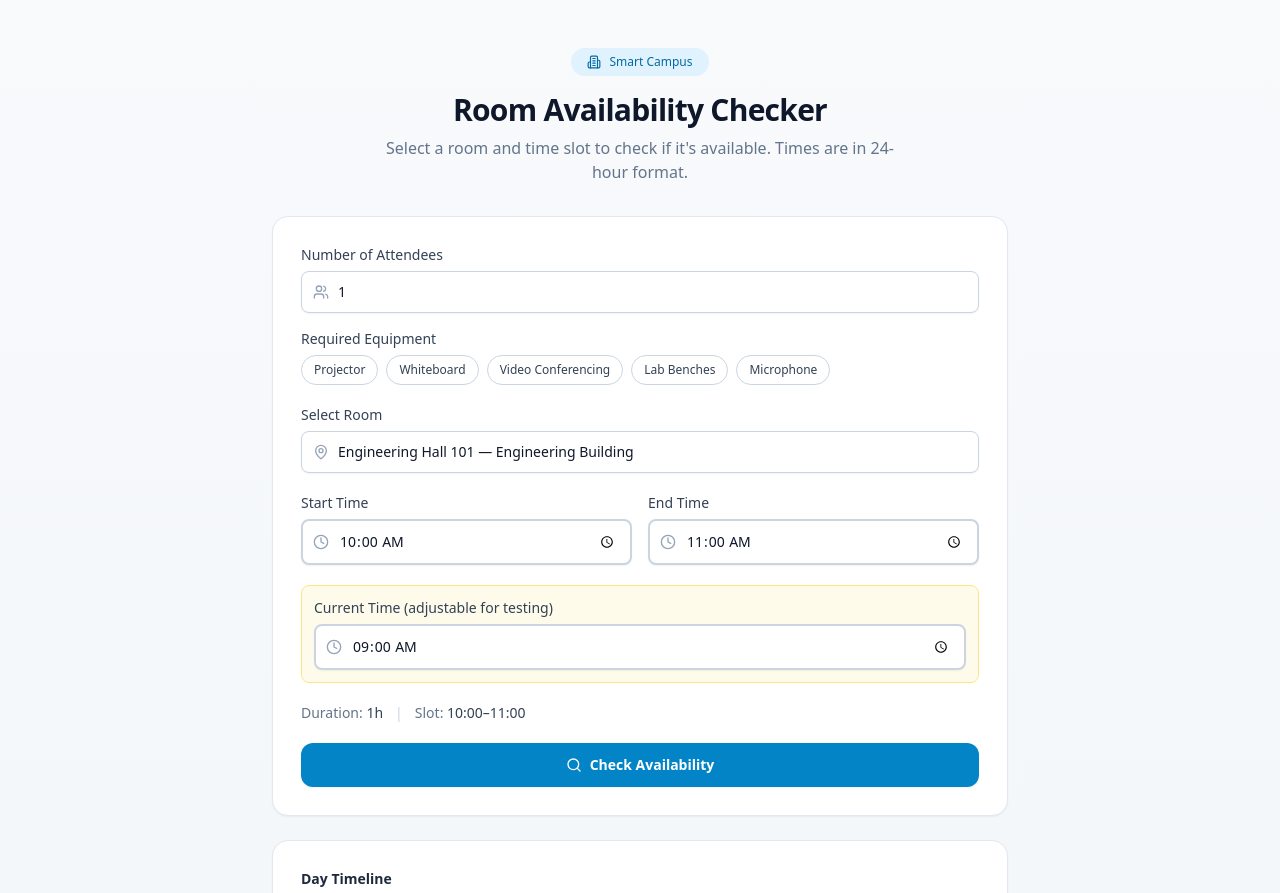
room switching › clears the old result and checks the newly selected room's own bookings
Click the button "Check Availability" at (640, 765), box [301, 743, 979, 787]
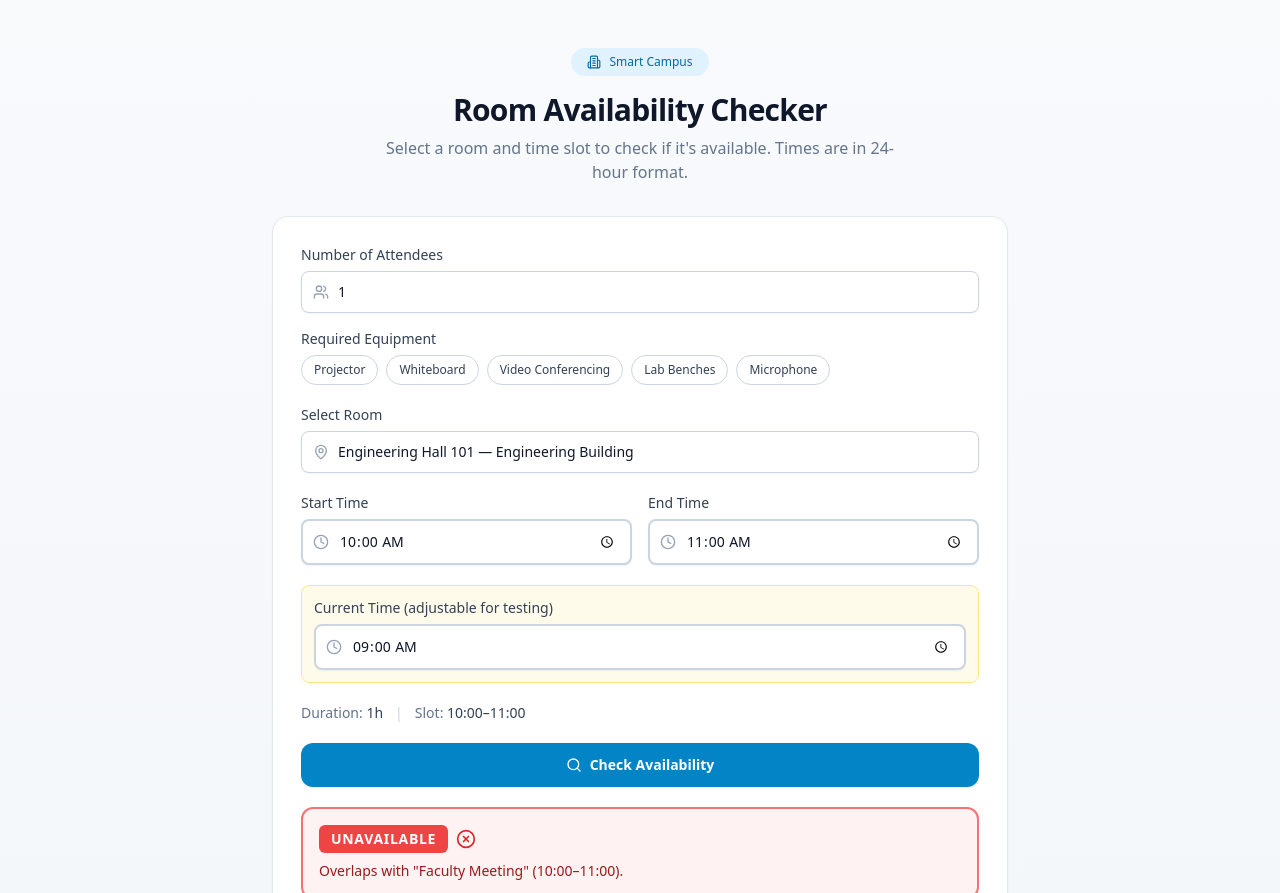
Check: the text "Unavailable" is shown, box [319, 825, 448, 853]
Select "Library Study Room B — Main Library" in the dropdown labelled "Select Room" at (640, 452), box [301, 431, 979, 473]
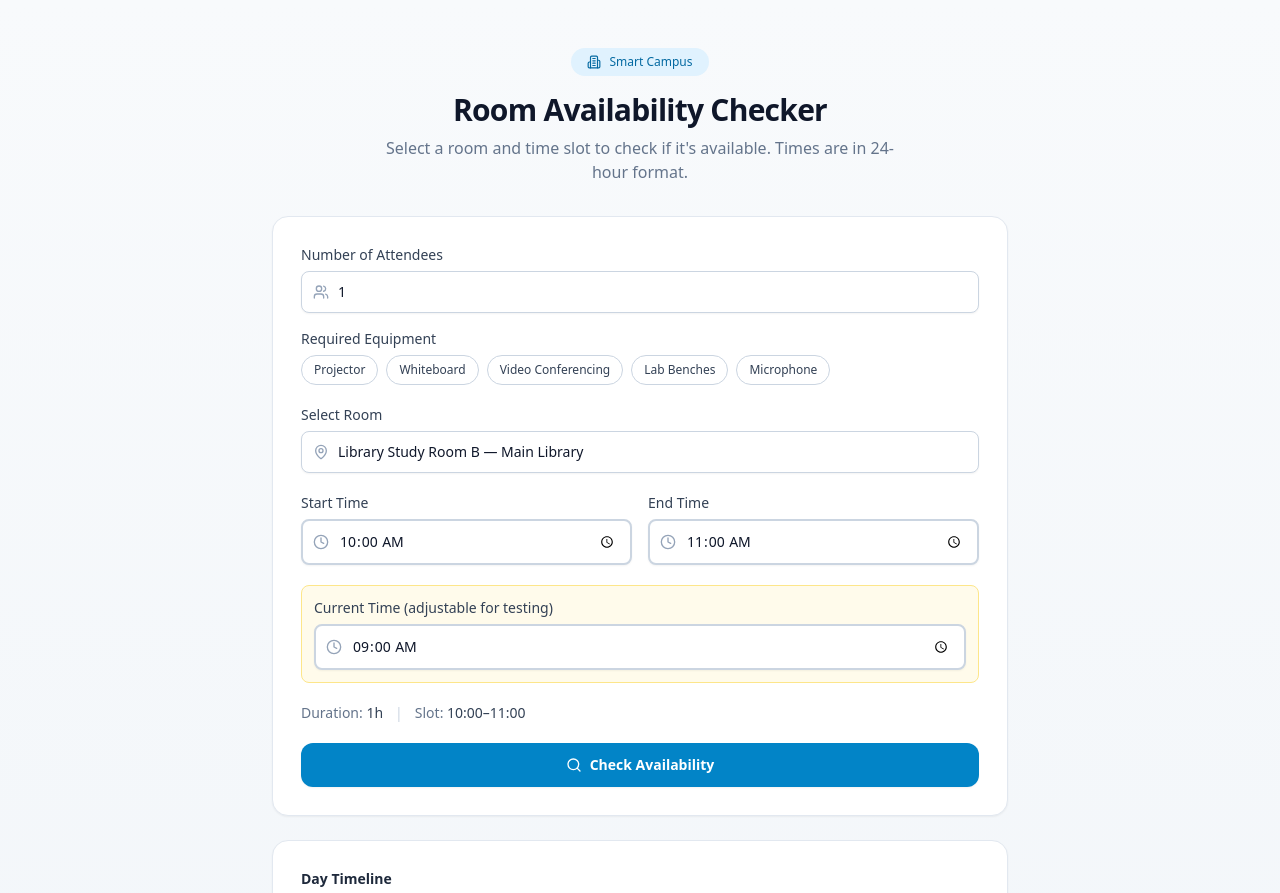
Check: the text "Unavailable" is gone
Click the button "Check Availability" at (640, 765), box [301, 743, 979, 787]
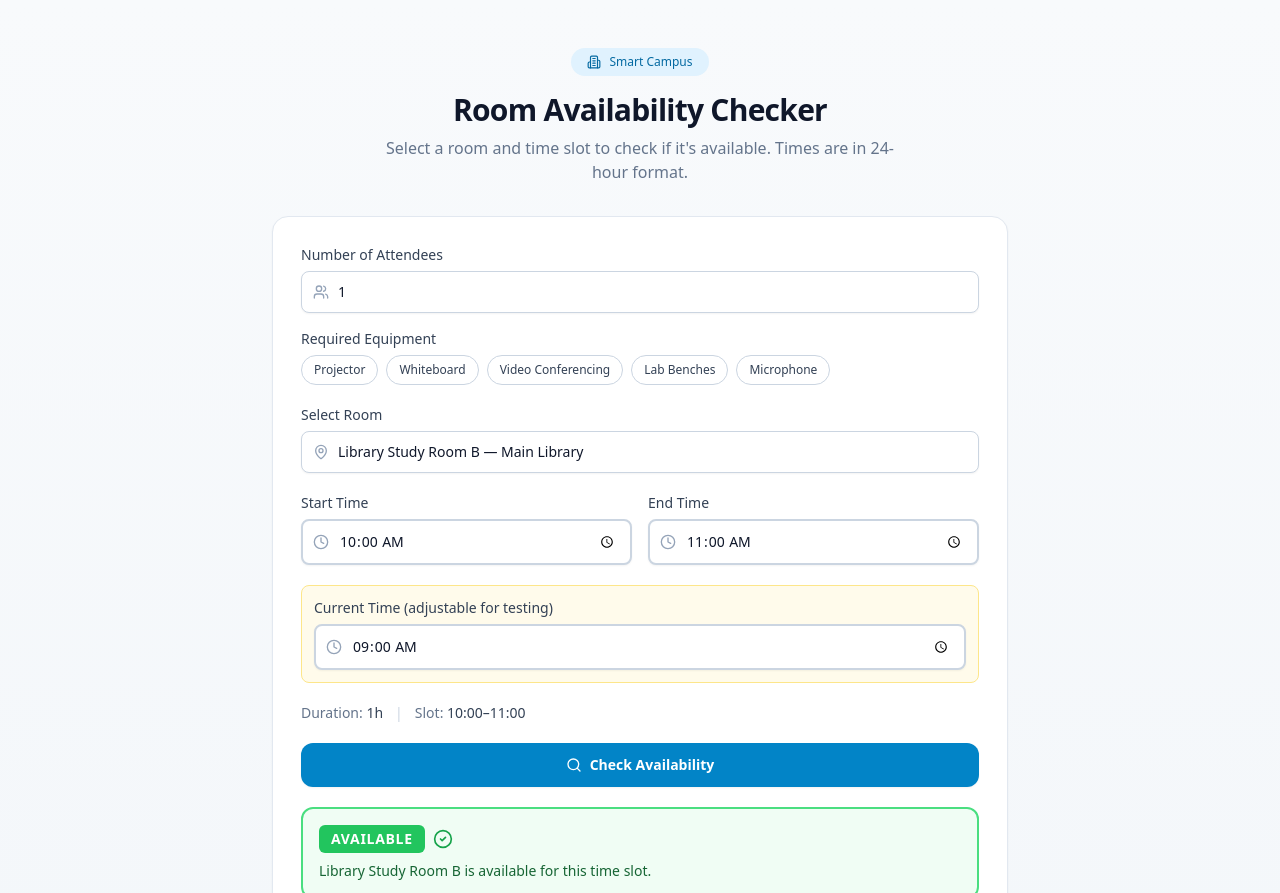
Check: the text "Available" is shown, box [319, 825, 425, 853]
